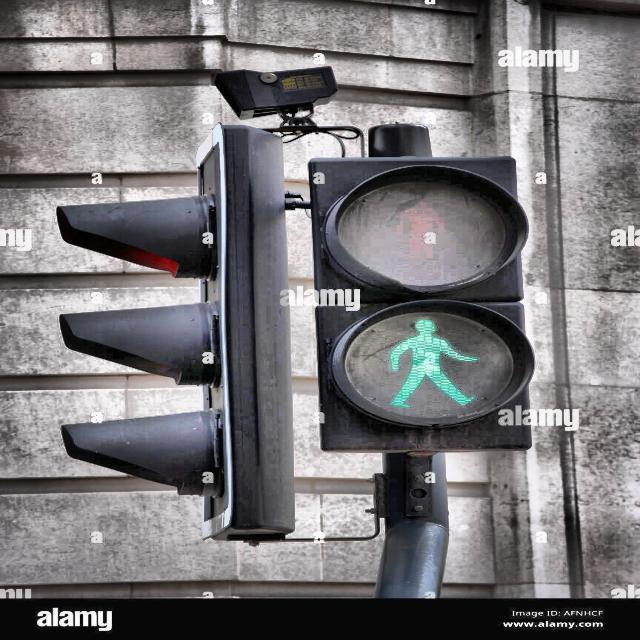green_light: (385, 316, 478, 409)
